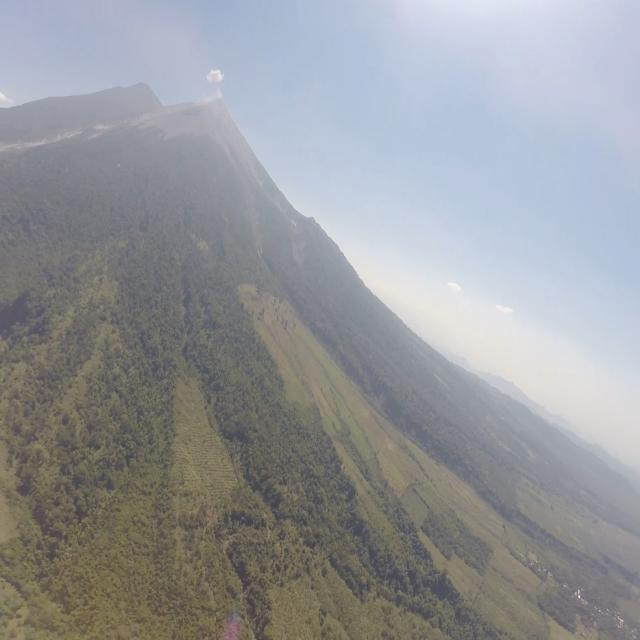Plume: (208, 64, 226, 90)
Summit: (196, 92, 228, 115)
